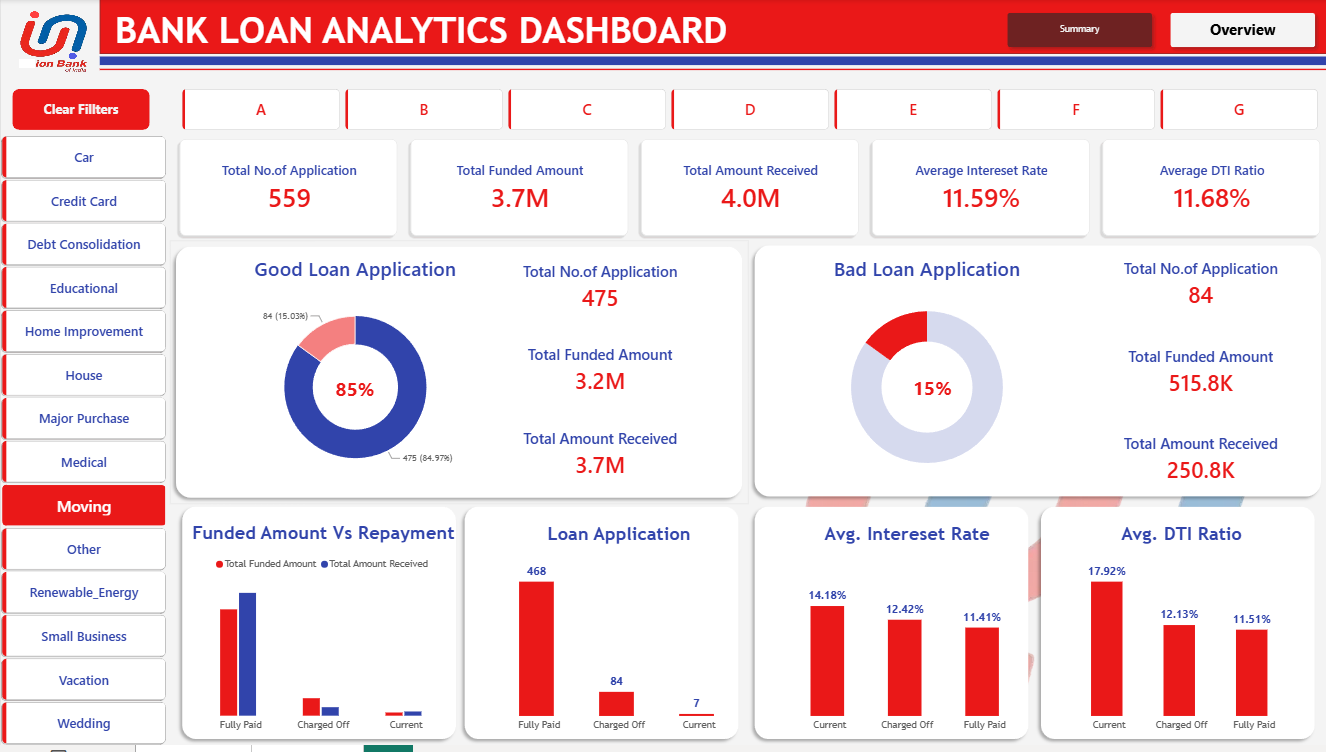

The page's visual inventory and layout, read from the dashboard file:
{"tool":"powerbi","page":{"name":"Summary","canvas":[1920,1080],"ordinal":0},"visuals":[{"type":"image","box":[1100.3,454.2,819.8,626.1],"z":0},{"type":"shape","box":[1496.6,725.7,414.4,354.7],"z":1000},{"type":"shape","box":[1082.2,725.7,414.4,354.7],"z":2000},{"type":"shape","box":[662.3,725.7,414.4,354.7],"z":3000},{"type":"shape","box":[253.4,725.7,414.4,354.7],"z":4000},{"type":"shape","box":[1082.2,347.5,837.9,381.8],"z":5000},{"type":"shape","box":[244.3,349.3,837.9,381.8],"z":6000},{"type":"shape","box":[143,0,1777.1,79.6],"z":7000},{"type":"cardVisual","fields":{"Data":["financial_loan.Total No.of Application","financial_loan.Total funded Amount","financial_loan.Total Amount Received","financial_loan.Average Intereset Rate","financial_loan.Average DTI Rate"]},"box":[253.4,197.5,1662.7,151.7],"z":8000},{"type":"donutChart","title":"Good Loan Application","fields":{"Category":["financial_loan.Good_vs_Bad_Loan"],"Y":["financial_loan.Total No.of Application"]},"box":[278.7,356.5,468.7,358.3],"z":9000},{"type":"donutChart","title":"Bad Loan Application","fields":{"Category":["financial_loan.Good_vs_Bad_Loan"],"Y":["financial_loan.Total No.of Application"]},"box":[1107.5,356.5,474.1,358.3],"z":10000},{"type":"cardVisual","fields":{"Data":["financial_loan.Good Loan %"]},"box":[452.4,510.3,137.5,105],"z":11000},{"type":"cardVisual","fields":{"Data":["financial_loan.Bad Loan %"]},"box":[1290.3,495.8,133.9,132.1],"z":12000},{"type":"cardVisual","fields":{"Data":["financial_loan.Total No.of Application","financial_loan.Total funded Amount","financial_loan.Total Amount Received"],"Rows":["financial_loan.Good_vs_Bad_Loan"]},"box":[1545.5,352.9,352.9,374.6],"z":13000},{"type":"cardVisual","fields":{"Data":["financial_loan.Total No.of Application","financial_loan.Total funded Amount","financial_loan.Total Amount Received"],"Rows":["financial_loan.Good_vs_Bad_Loan"]},"box":[628,360.1,448.8,356.5],"z":14000},{"type":"clusteredColumnChart","title":"Funded Amount Vs Repayment ","fields":{"Category":["financial_loan.LOAN_STATUS"],"Y":["financial_loan.Total Funded Amount","financial_loan.Total Amount Received"]},"box":[253.4,742,427.1,336.6],"z":15000},{"type":"clusteredColumnChart","title":"Loan Application","fields":{"Category":["financial_loan.LOAN_STATUS"],"Y":["financial_loan.Total No.of Application"]},"box":[688.3,743.8,414.4,334.8],"z":16000},{"type":"clusteredColumnChart","title":"Avg. Intereset Rate","fields":{"Category":["financial_loan.LOAN_STATUS"],"Y":["financial_loan.Average Intereset Rate"]},"box":[1110.5,743.8,401.7,334.8],"z":17000},{"type":"clusteredColumnChart","title":"Avg. DTI Ratio","fields":{"Category":["financial_loan.LOAN_STATUS"],"Y":["financial_loan.Average DTI Ratio"]},"box":[1520.1,743.8,378.2,334.8],"z":18000},{"type":"advancedSlicerVisual","fields":{"Values":["financial_loan.PURPOSE"]},"box":[0,197.1,240,883],"z":19000},{"type":"advancedSlicerVisual","fields":{"Values":["financial_loan.GRADE"]},"box":[262.4,130.3,1648.6,59.7],"z":20000},{"type":"actionButton","box":[16.1,130.5,199.2,59.3],"z":21000},{"type":"pageNavigator","box":[1446.9,10.5,465.1,68.8],"z":22000},{"type":"image","box":[0,0,155.6,130.3],"z":23000},{"type":"shape","box":[143.5,83.9,1776.4,12.4],"z":24000},{"type":"shape","box":[142.7,96.2,1776.3,12.1],"z":25000},{"type":"textbox","box":[116.3,12.2,984.5,65.1],"z":26000}]}

Visuals, with their boxes in screenshot pixels (x1, y1, x2, y2), scaled from the page's 1920x1080 canvas onto the 1326x752 screenshot:
image: pyautogui.locateOnScreen(760, 316, 1325, 751)
shape: pyautogui.locateOnScreen(1034, 505, 1320, 751)
shape: pyautogui.locateOnScreen(747, 505, 1034, 751)
shape: pyautogui.locateOnScreen(457, 505, 744, 751)
shape: pyautogui.locateOnScreen(175, 505, 461, 751)
shape: pyautogui.locateOnScreen(747, 242, 1325, 508)
shape: pyautogui.locateOnScreen(169, 243, 747, 509)
shape: pyautogui.locateOnScreen(99, 0, 1325, 55)
cardVisual - financial_loan.Total No.of Application x financial_loan.Total funded Amount: pyautogui.locateOnScreen(175, 138, 1323, 243)
"Good Loan Application" donutChart: pyautogui.locateOnScreen(192, 248, 516, 498)
"Bad Loan Application" donutChart: pyautogui.locateOnScreen(765, 248, 1092, 498)
cardVisual - financial_loan.Good Loan %: pyautogui.locateOnScreen(312, 355, 407, 428)
cardVisual - financial_loan.Bad Loan %: pyautogui.locateOnScreen(891, 345, 984, 437)
cardVisual - financial_loan.Total No.of Application x financial_loan.Total funded Amount: pyautogui.locateOnScreen(1067, 246, 1311, 507)
cardVisual - financial_loan.Total No.of Application x financial_loan.Total funded Amount: pyautogui.locateOnScreen(434, 251, 744, 499)
"Funded Amount Vs Repayment " clusteredColumnChart: pyautogui.locateOnScreen(175, 517, 470, 751)
"Loan Application" clusteredColumnChart: pyautogui.locateOnScreen(475, 518, 762, 751)
"Avg. Intereset Rate" clusteredColumnChart: pyautogui.locateOnScreen(767, 518, 1044, 751)
"Avg. DTI Ratio" clusteredColumnChart: pyautogui.locateOnScreen(1050, 518, 1311, 751)
advancedSlicerVisual - financial_loan.PURPOSE: pyautogui.locateOnScreen(0, 137, 166, 751)
advancedSlicerVisual - financial_loan.GRADE: pyautogui.locateOnScreen(181, 91, 1320, 132)
actionButton: pyautogui.locateOnScreen(11, 91, 149, 132)
pageNavigator: pyautogui.locateOnScreen(999, 7, 1320, 55)
image: pyautogui.locateOnScreen(0, 0, 107, 91)
shape: pyautogui.locateOnScreen(99, 58, 1325, 67)
shape: pyautogui.locateOnScreen(99, 67, 1325, 75)
textbox: pyautogui.locateOnScreen(80, 8, 760, 54)
